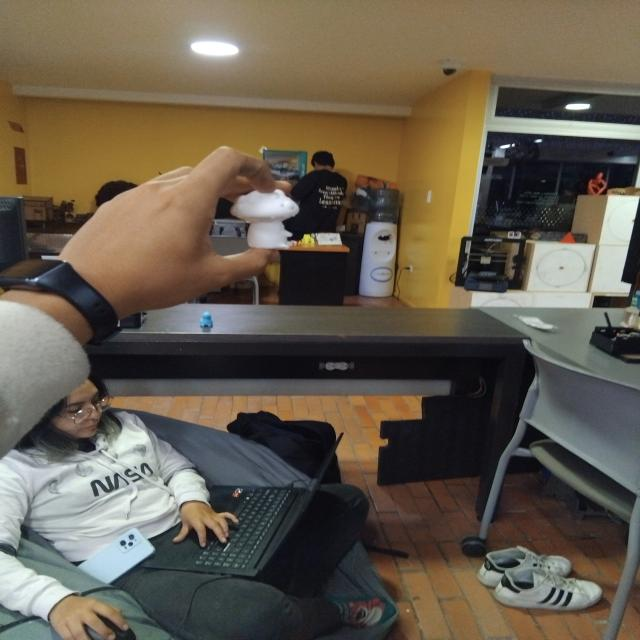Hongo: (217, 172, 311, 254)
